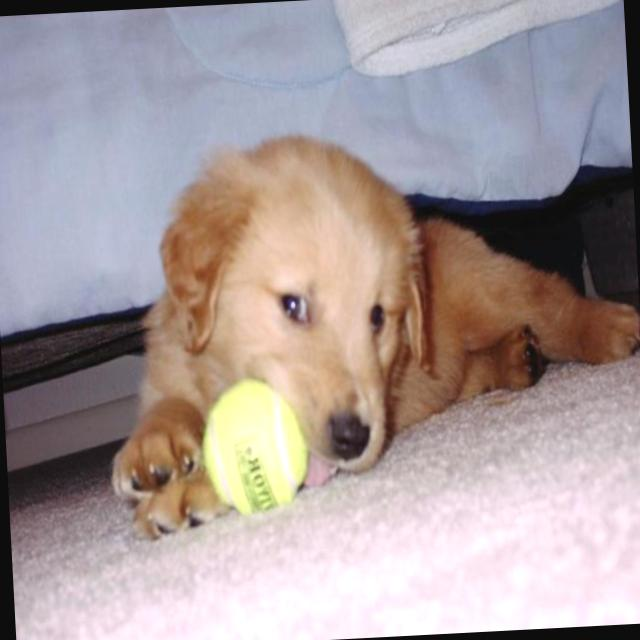Tennis Ball: (200, 376, 310, 518)
